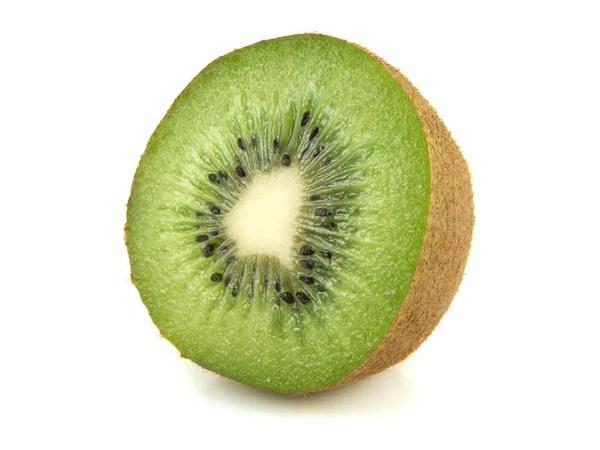kiwi: (107, 18, 496, 416)
